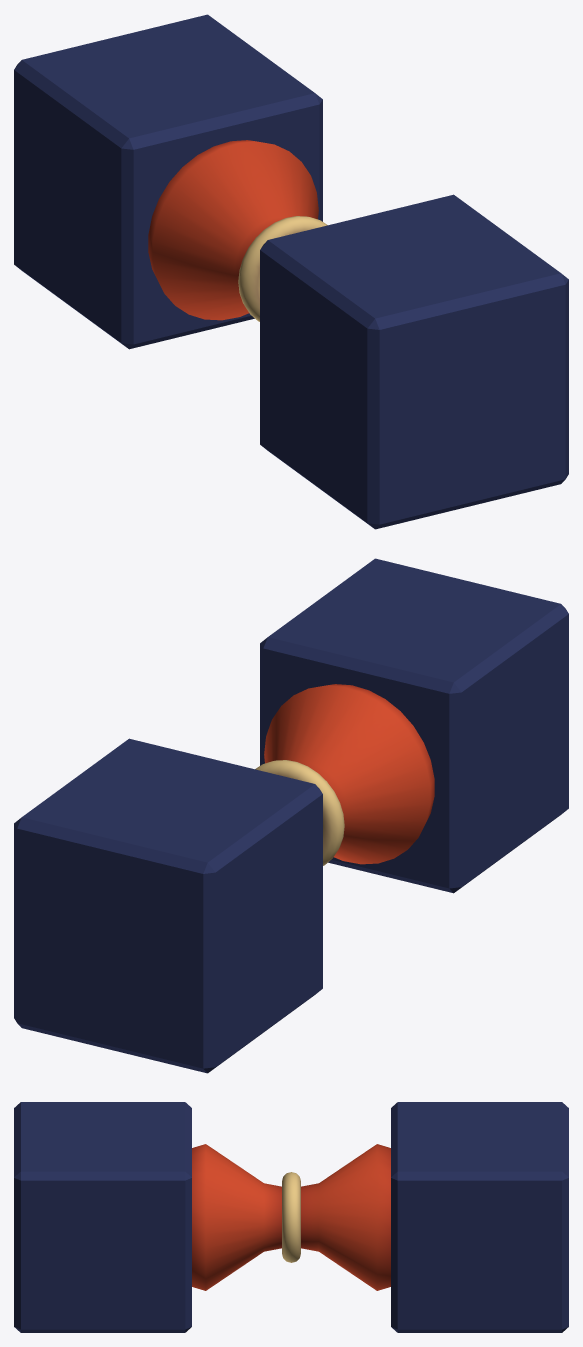
Rendered from R4C_STRUT_STANDARD.fbx.
3 views of the same model, one above another, from view 1: azimuth 30°, elevation 25°; view 2: azimuth 150°, elevation 25°; view 3: azimuth 270°, elevation 25° (orthographic). The views are drawn at different scales.
Visible parts, largest first — view 1: R4C_STRUT_STANDARD; view 2: R4C_STRUT_STANDARD; view 3: R4C_STRUT_STANDARD.
Part boxes in pixels (bbox=[...]): R4C_STRUT_STANDARD: bbox=[14, 14, 568, 529]; R4C_STRUT_STANDARD: bbox=[14, 558, 568, 1073]; R4C_STRUT_STANDARD: bbox=[14, 1102, 568, 1332].
Size of the model in its own units: 0.52 by 0.52 by 1.62.
